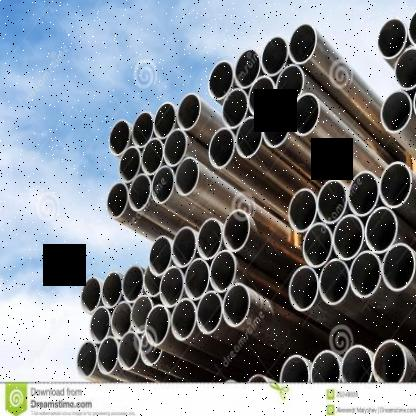pipe: (381, 242, 416, 291), (379, 161, 413, 209), (365, 206, 398, 254), (349, 250, 382, 298), (332, 214, 364, 261), (319, 258, 350, 305), (316, 179, 348, 224), (373, 340, 407, 382), (348, 170, 379, 216), (380, 90, 412, 134), (302, 222, 333, 267), (289, 265, 318, 312), (377, 16, 407, 60), (288, 188, 317, 233), (291, 93, 320, 136), (288, 23, 317, 65), (223, 282, 250, 327), (196, 290, 223, 335), (263, 105, 291, 148), (235, 116, 263, 159), (210, 249, 237, 293), (341, 345, 373, 382), (276, 64, 304, 106), (223, 209, 250, 252), (248, 76, 275, 118), (261, 36, 289, 76), (234, 48, 261, 89), (197, 218, 223, 260), (184, 258, 210, 300), (145, 304, 170, 347), (171, 226, 197, 267), (171, 298, 196, 340), (209, 128, 235, 168), (222, 89, 247, 130), (393, 47, 416, 91), (160, 266, 184, 308), (209, 60, 234, 100), (175, 156, 199, 196), (311, 350, 341, 382), (177, 92, 201, 131), (151, 165, 175, 204), (149, 236, 172, 276), (130, 294, 153, 334), (118, 330, 140, 370), (141, 138, 164, 175), (129, 173, 151, 211), (131, 112, 154, 148), (106, 182, 129, 218), (122, 264, 143, 303), (97, 336, 118, 375), (76, 340, 97, 379), (154, 102, 176, 139), (89, 306, 111, 343), (280, 355, 309, 382), (140, 332, 163, 366), (109, 119, 130, 156), (119, 146, 140, 183), (101, 271, 122, 308), (80, 277, 101, 312), (144, 266, 160, 297), (407, 6, 416, 49)
